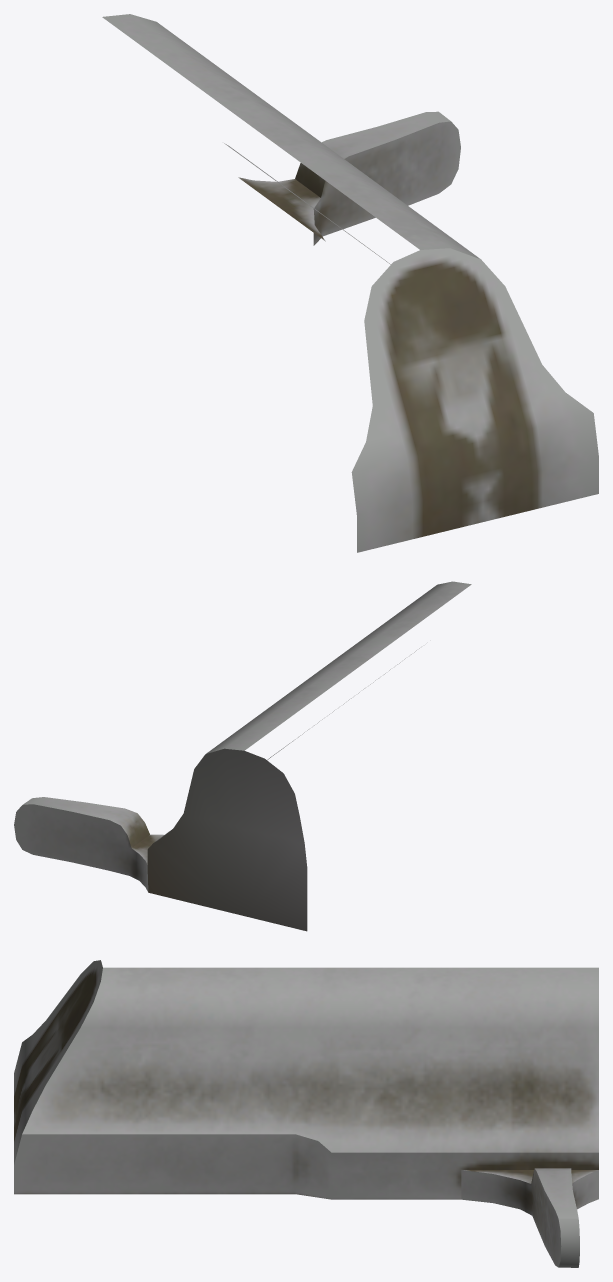
Rendered from SLIDE.gltf.
3 views of the same model, one above another, from view 1: azimuth 30°, elevation 25°; view 2: azimuth 150°, elevation 25°; view 3: azimuth 270°, elevation 25° (orthographic). The views are drawn at different scales.
Visible parts, largest first — view 1: SLIDE; view 2: SLIDE; view 3: SLIDE.
Boxes of the visible parts, x1,y1,x2,y2 form: SLIDE: (102,14,598,552); SLIDE: (14,581,471,931); SLIDE: (14,960,598,1267).
Bounding box in the file's own units: 0.0676 × 0.0328 × 0.0966.
Materials: 1 (1 with a texture image).
